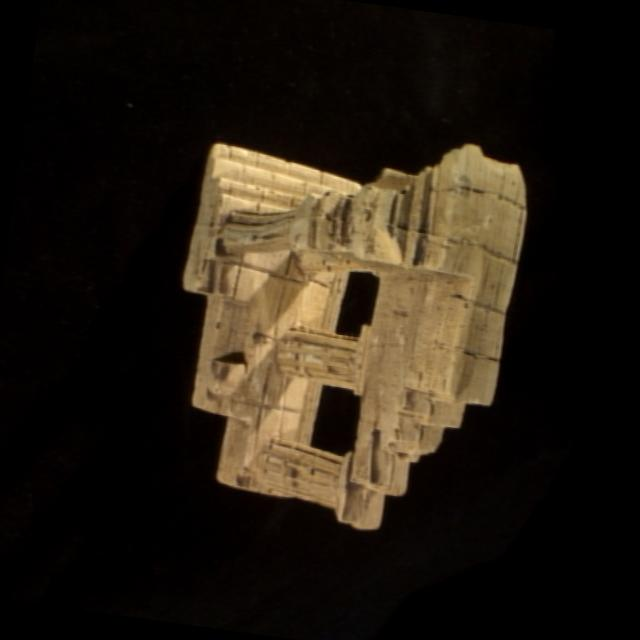Instance-Segmentation: (184, 144, 526, 528)
